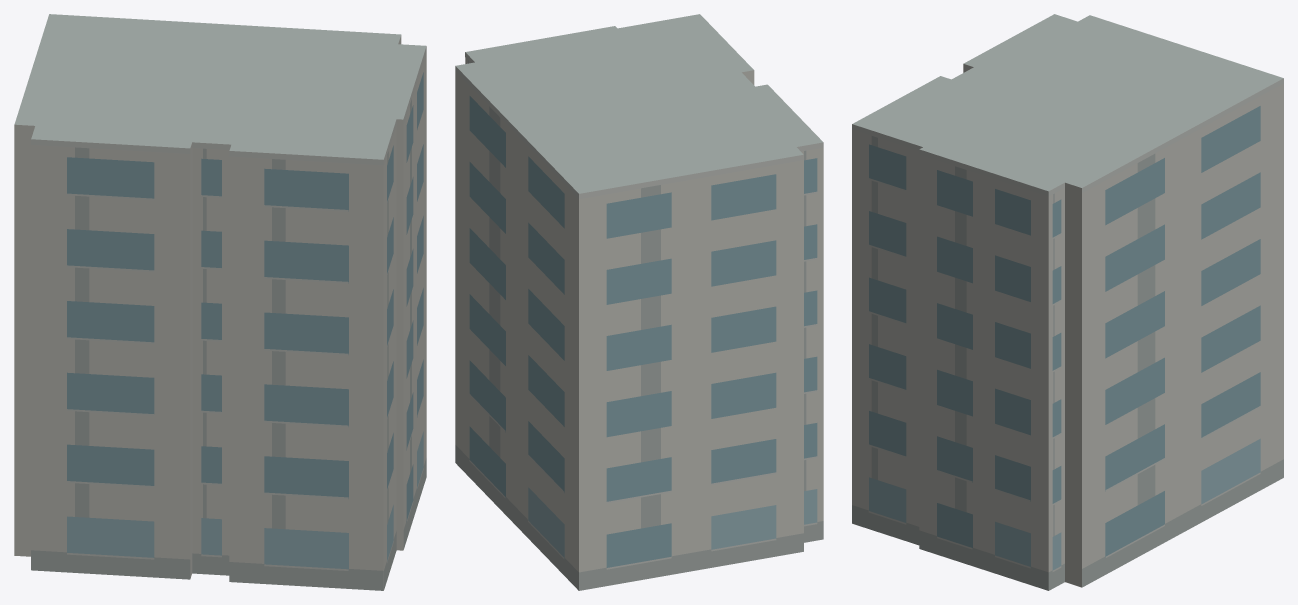
File: survey-upis-32978306.glb
3 renders of one model, left to right at view 1: azimuth 30°, elevation 25°; view 2: azimuth 150°, elevation 25°; view 3: azimuth 270°, elevation 25°, orthographic. The views are drawn at different scales.
Visible parts, largest first — view 1: survey-upis-32978306.tmp; view 2: survey-upis-32978306.tmp; view 3: survey-upis-32978306.tmp.
Part boxes in pixels (<box>): survey-upis-32978306.tmp: <box>14,14,426,590</box>; survey-upis-32978306.tmp: <box>455,14,823,590</box>; survey-upis-32978306.tmp: <box>852,14,1283,590</box>.
Size of the model in its own units: 17.53 by 18.4 by 18.03.
